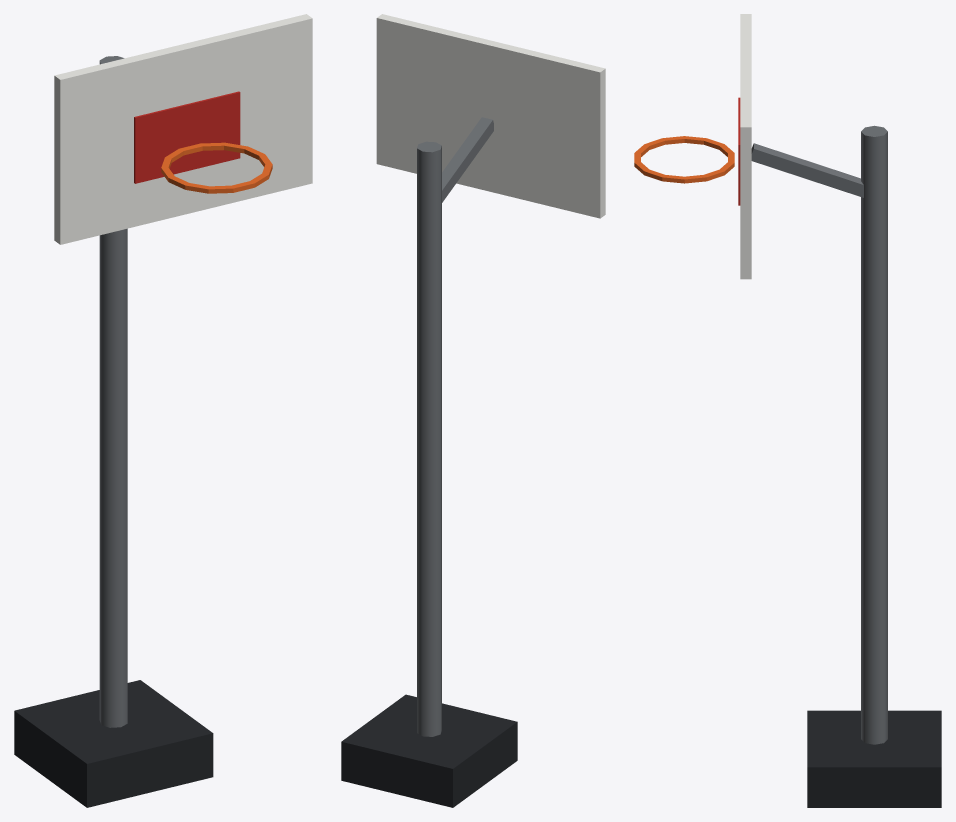
Rendered from sb_basketball_hoop.glb.
3 views of the same model, side by side, from view 1: azimuth 30°, elevation 25°; view 2: azimuth 150°, elevation 25°; view 3: azimuth 270°, elevation 25° (orthographic). The views are drawn at different scales.
Parts seen in each view (by area): view 1: sb_basketball_hoop; view 2: sb_basketball_hoop; view 3: sb_basketball_hoop.
Part boxes in pixels (left/top/right/bottom): sb_basketball_hoop: left=14, top=14, right=312, bottom=807; sb_basketball_hoop: left=341, top=14, right=605, bottom=807; sb_basketball_hoop: left=634, top=14, right=941, bottom=807.
Size of the model in its own units: 1.2 by 3.5 by 1.37.
